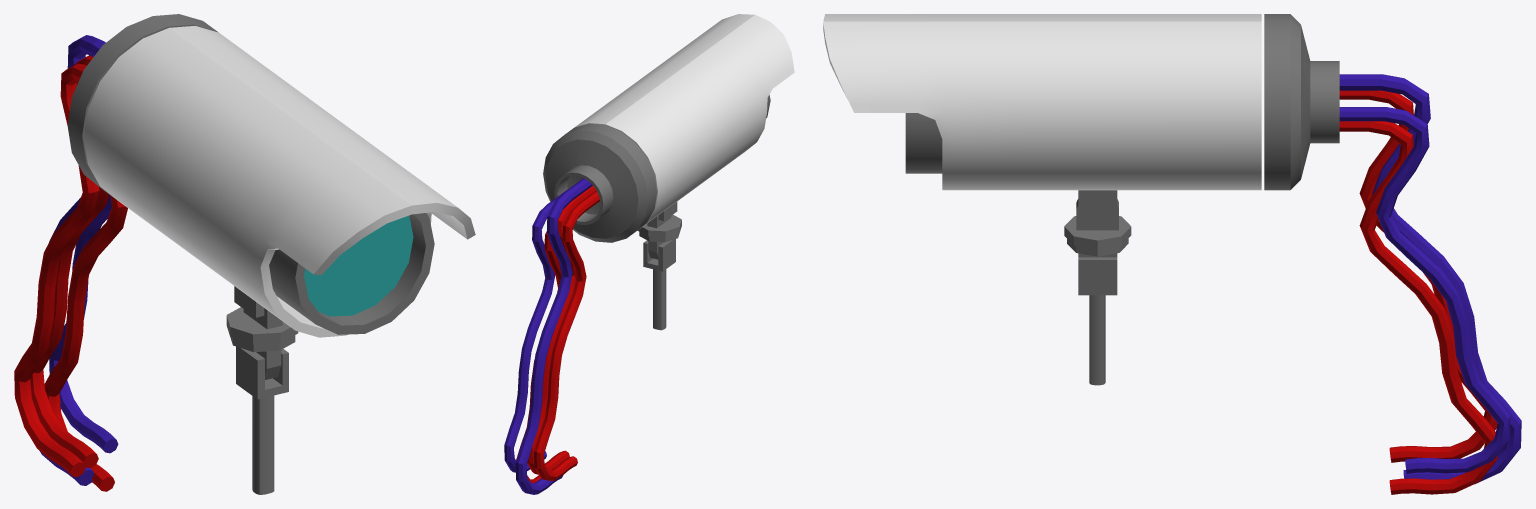
Rendered from SecuityCameraBasColour.fbx.
3 renders of one model, left to right at view 1: azimuth 30°, elevation 25°; view 2: azimuth 150°, elevation 25°; view 3: azimuth 270°, elevation 25°, orthographic. The views are drawn at different scales.
Visible parts, largest first — view 1: SercuityCamera01, RoofMount01, JointBottom01, JointTop01; view 2: SercuityCamera01, RoofMount01, JointBottom01, JointTop01; view 3: SercuityCamera01, RoofMount01, JointBottom01, CameraMountToJoint01.
Boxes of the visible parts, bbox=[...] form: SercuityCamera01: bbox=[14, 14, 475, 491]; RoofMount01: bbox=[236, 346, 288, 494]; JointBottom01: bbox=[226, 307, 298, 344]; JointTop01: bbox=[230, 335, 295, 379]; SercuityCamera01: bbox=[504, 14, 794, 494]; RoofMount01: bbox=[643, 239, 675, 330]; JointBottom01: bbox=[637, 214, 681, 237]; JointTop01: bbox=[639, 232, 679, 259]; SercuityCamera01: bbox=[823, 14, 1521, 494]; RoofMount01: bbox=[1078, 257, 1117, 385]; JointBottom01: bbox=[1064, 199, 1131, 249]; CameraMountToJoint01: bbox=[1078, 190, 1117, 221].
Bounding box in the file's own units: 4.57 × 13.3 × 17.96.
